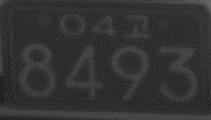0: (58, 12, 85, 36)
3: (159, 46, 197, 103)
4: (63, 43, 104, 98), (91, 14, 117, 40)
8: (18, 41, 56, 100)
9: (111, 43, 151, 101)
고: (124, 14, 150, 38)
